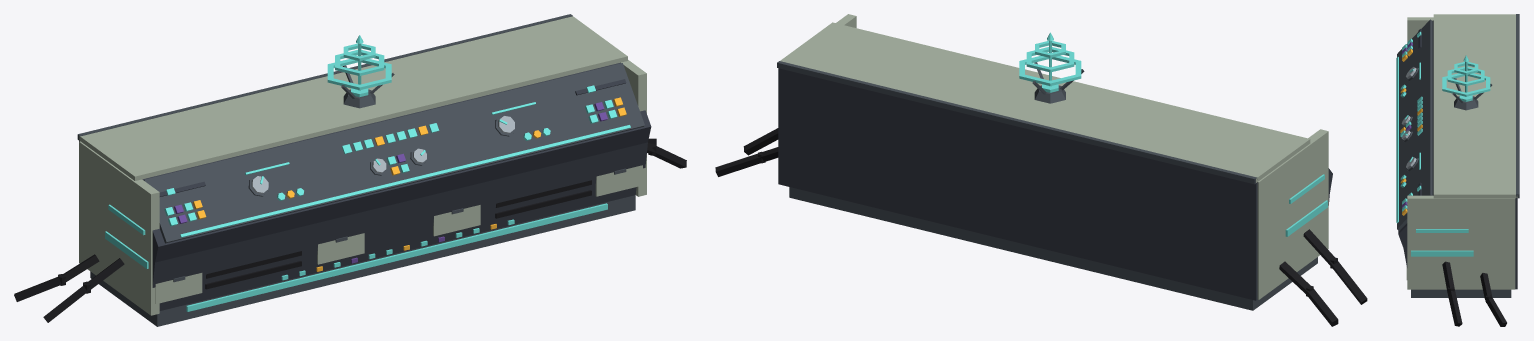
The model's file is GV_ShipConsole_01.glb.
3 views of the same model, side by side, from view 1: azimuth 30°, elevation 25°; view 2: azimuth 150°, elevation 25°; view 3: azimuth 270°, elevation 25° (orthographic). The views are drawn at different scales.
Visible parts, largest first — view 1: GV_ShipConsole_01; view 2: GV_ShipConsole_01; view 3: GV_ShipConsole_01.
Part boxes in pixels (bbox=[...]): GV_ShipConsole_01: bbox=[14, 14, 686, 326]; GV_ShipConsole_01: bbox=[715, 14, 1367, 326]; GV_ShipConsole_01: bbox=[1396, 14, 1519, 326].
Bounding box in the file's own units: 4.44 × 1.37 × 0.9816.
1 material, 1 textured.
